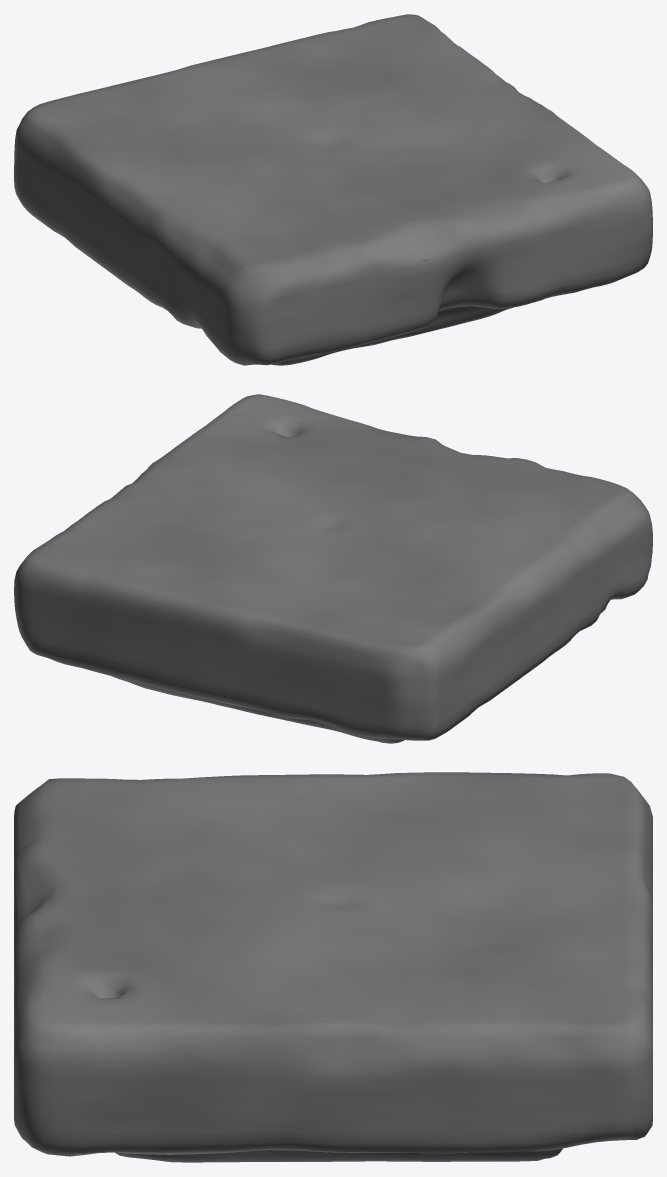
Rendered from Capital.fbx.
3 renders of one model, top to bottom at view 1: azimuth 30°, elevation 25°; view 2: azimuth 150°, elevation 25°; view 3: azimuth 270°, elevation 25°, orthographic. The views are drawn at different scales.
Parts seen in each view (by area): view 1: Capital.001; view 2: Capital.001; view 3: Capital.001.
Part boxes in pixels (left/top/right/bottom): Capital.001: left=14, top=14, right=652, bottom=365; Capital.001: left=14, top=394, right=652, bottom=743; Capital.001: left=14, top=772, right=652, bottom=1162.
Size of the model in its own units: 450 by 137 by 450.
